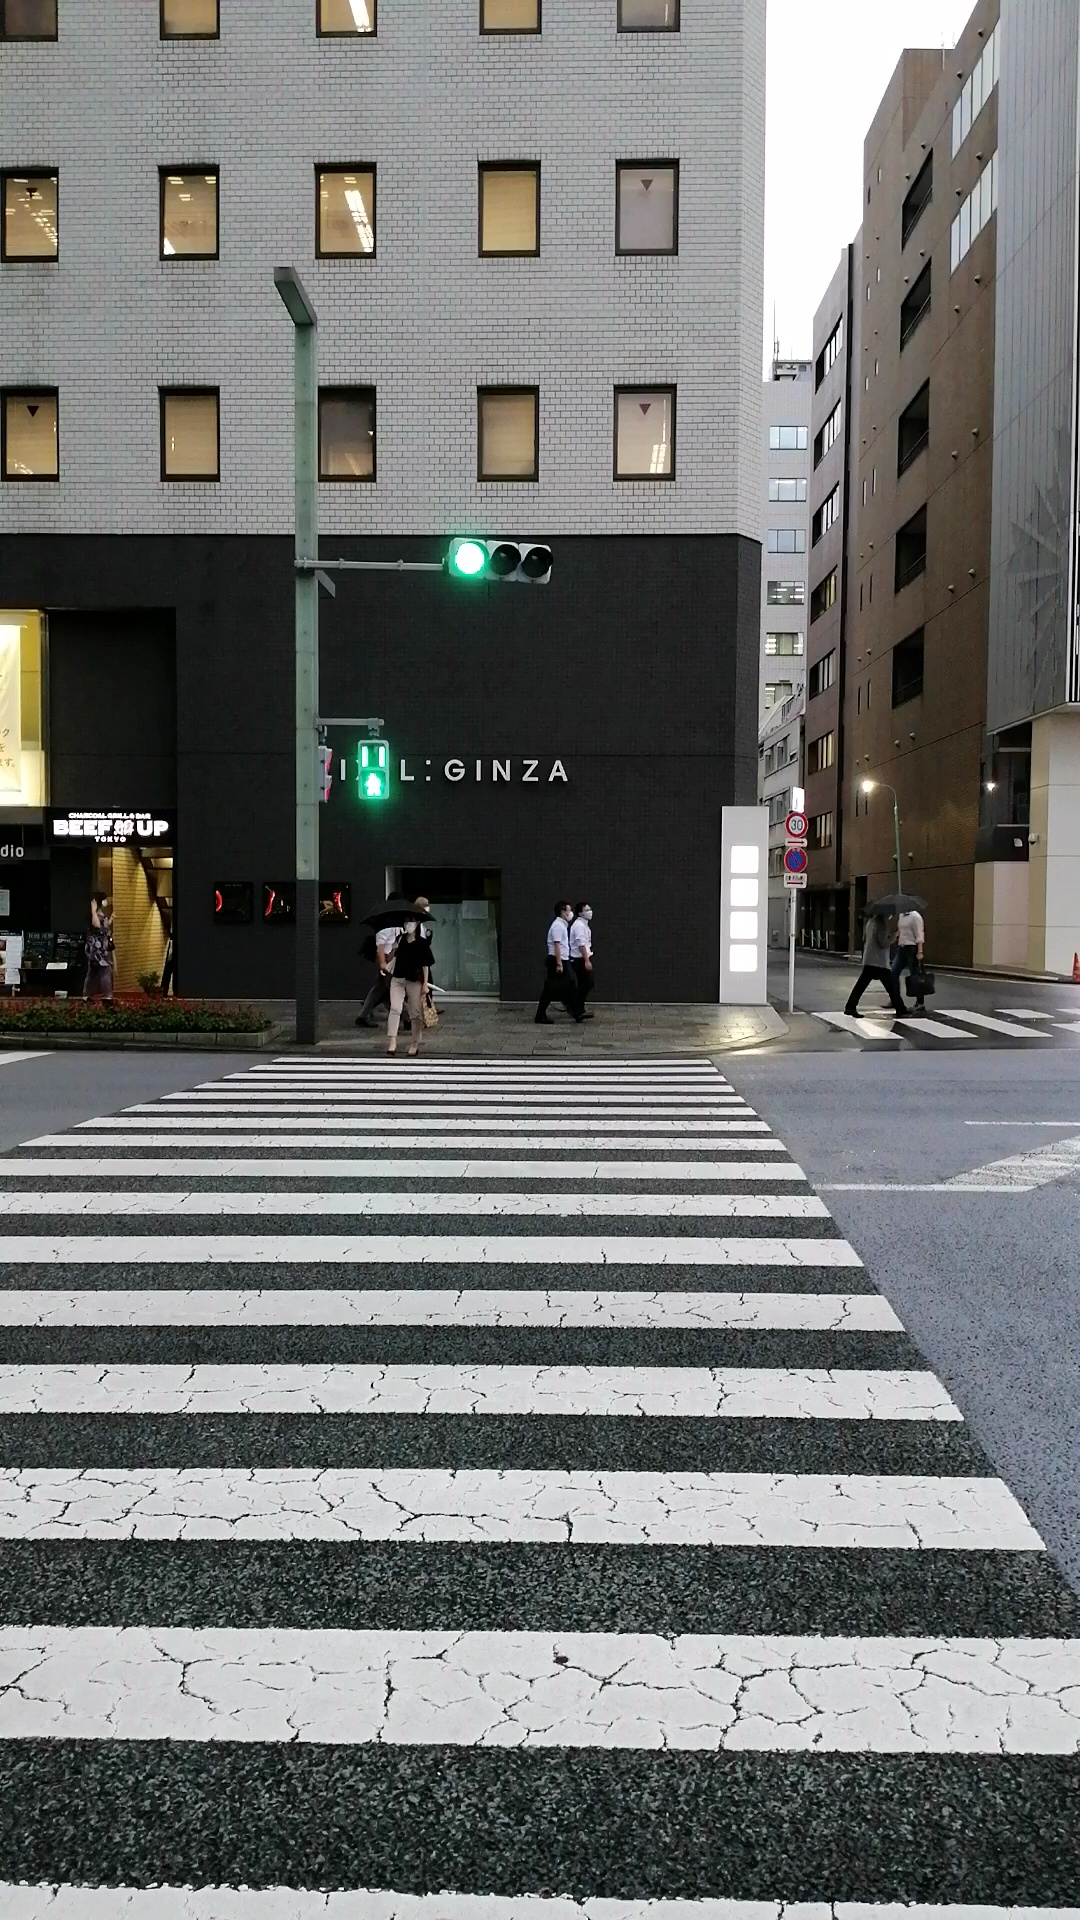green: (353, 738, 389, 802)
